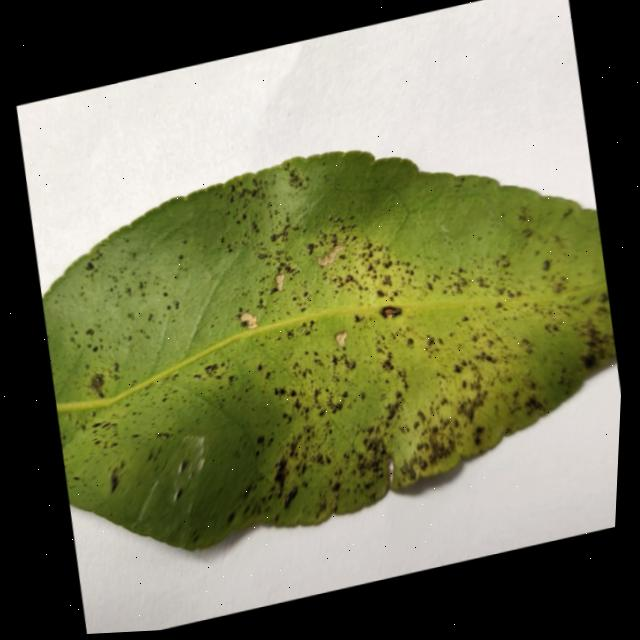melanose: (43, 151, 615, 549)
